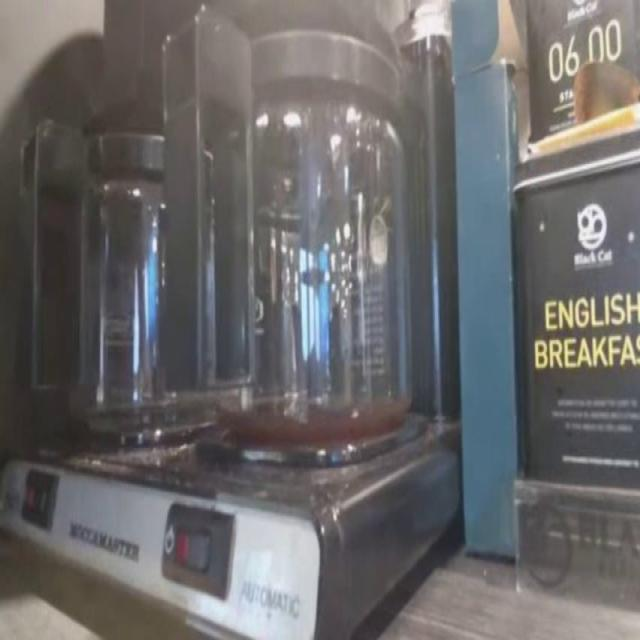nocoffee: (222, 116, 410, 432), (76, 188, 171, 418)
